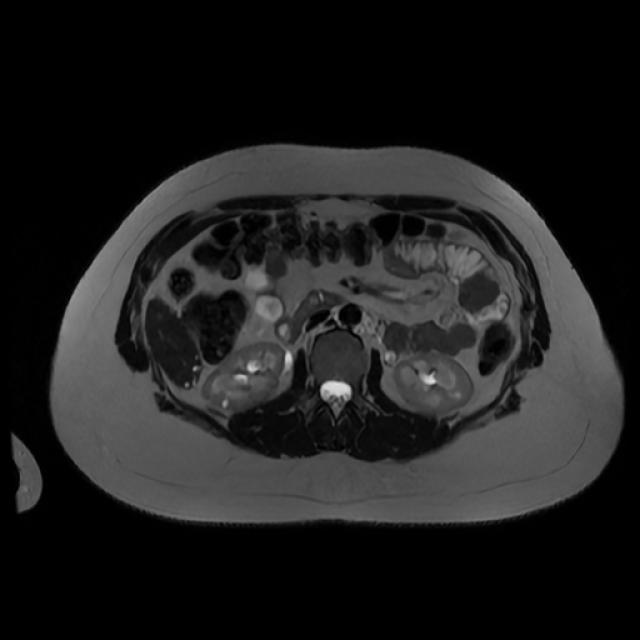sag: (201, 342, 293, 413)
sol: (395, 352, 470, 414)
